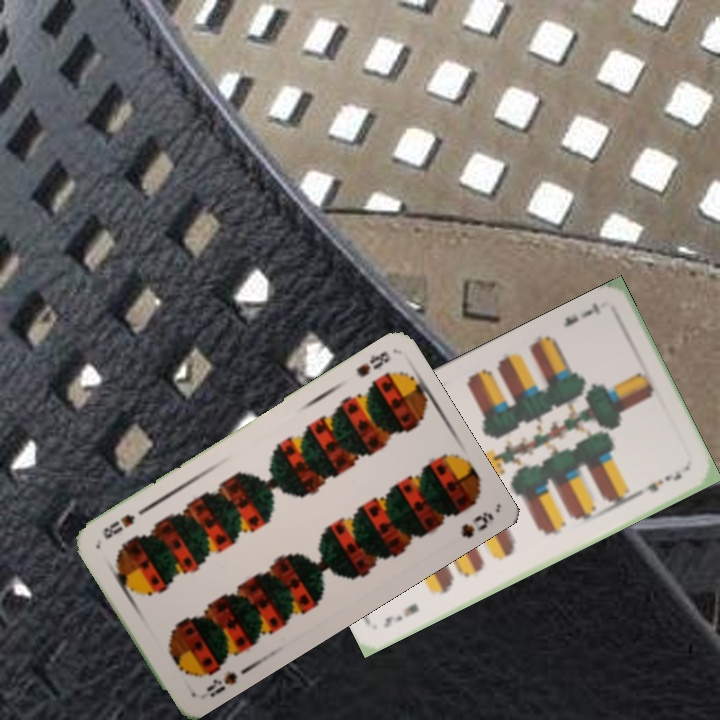E7: (559, 298, 604, 330), (379, 599, 422, 631)
S8: (352, 347, 393, 380), (202, 667, 240, 701)
